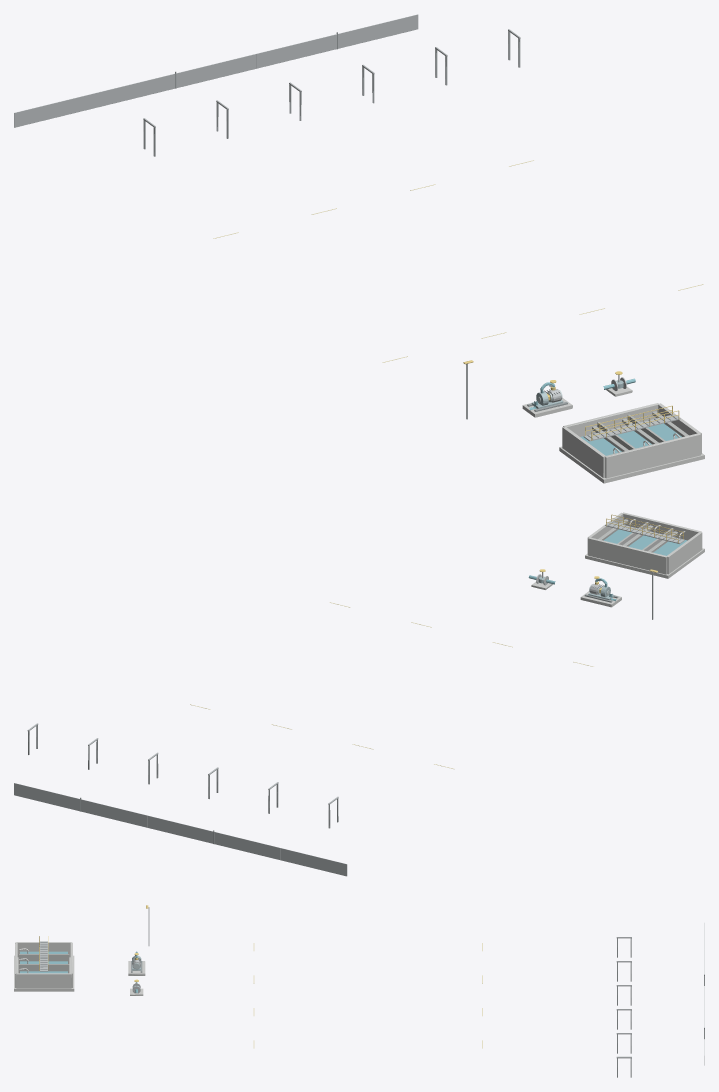
3 renders of one model, top to bottom at view 1: azimuth 30°, elevation 25°; view 2: azimuth 150°, elevation 25°; view 3: azimuth 270°, elevation 25°, orthographic. The views are drawn at different scales.
Visible parts, largest first — view 1: render-batch-4, render-batch-8, render-batch-2, render-batch-0, render-batch-5, render-batch-6; view 2: render-batch-4, render-batch-8, render-batch-0, render-batch-2, render-batch-5, render-batch-6; view 3: render-batch-8, render-batch-5, render-batch-2, render-batch-0, render-batch-6, render-batch-4.
Boxes of the visible parts, box(x1,y1,x2,y2) form: render-batch-4: box(14, 14, 520, 127); render-batch-8: box(522, 386, 704, 483); render-batch-2: box(143, 31, 520, 419); render-batch-0: box(529, 378, 681, 455); render-batch-5: box(592, 411, 688, 451); render-batch-6: box(547, 375, 680, 441); render-batch-4: box(14, 723, 347, 876); render-batch-8: box(531, 512, 704, 607); render-batch-0: box(528, 529, 687, 601); render-batch-2: box(28, 571, 653, 843); render-batch-5: box(598, 519, 677, 552); render-batch-6: box(536, 521, 684, 594); render-batch-8: box(14, 942, 145, 995); render-batch-5: box(18, 954, 69, 973); render-batch-2: box(148, 907, 704, 1077); render-batch-0: box(20, 951, 137, 992); render-batch-6: box(40, 941, 140, 993); render-batch-4: box(616, 923, 704, 1065).
Bounding box in the file's own units: 55.69 × 7.08 × 112.
